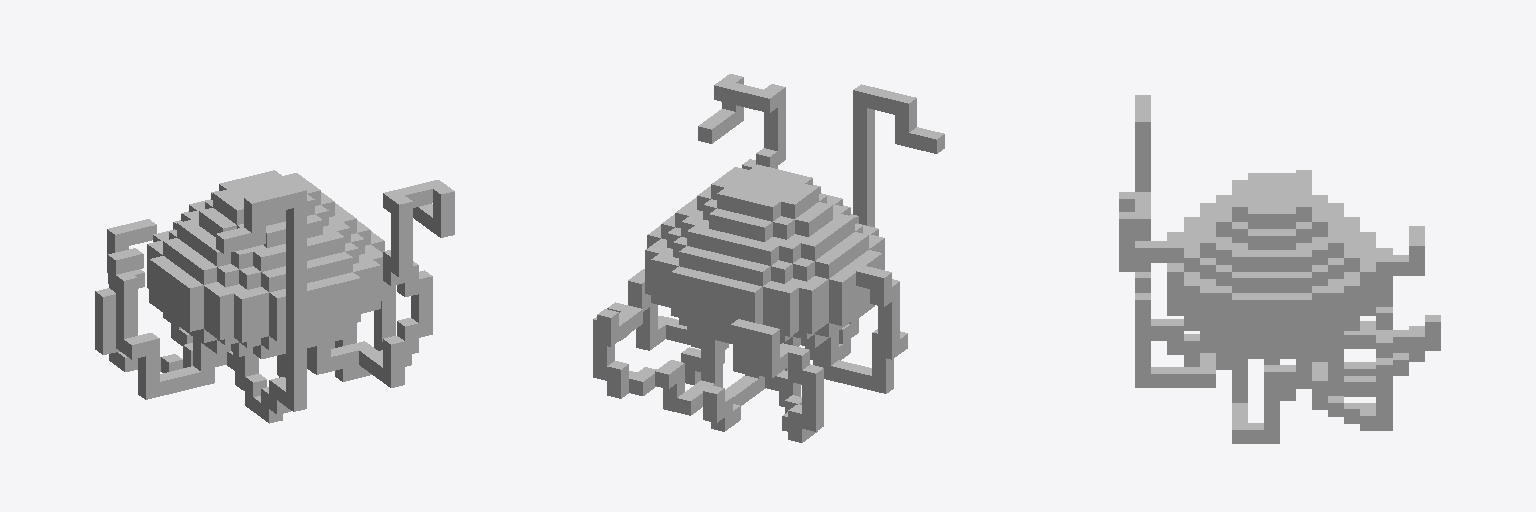
Rendered from alien1.obj.
3 renders of one model, left to right at view 1: azimuth 30°, elevation 25°; view 2: azimuth 150°, elevation 25°; view 3: azimuth 270°, elevation 25°, orthographic.
Parts seen in each view (by area): view 1: object 1; view 2: object 1; view 3: object 1.
Boxes of the visible parts, box(x1,y1,x2,y2) form: object 1: box(95, 170, 454, 423); object 1: box(593, 74, 944, 442); object 1: box(1119, 95, 1440, 443).
Bounding box in the file's own units: 1.9 × 1.7 × 2.